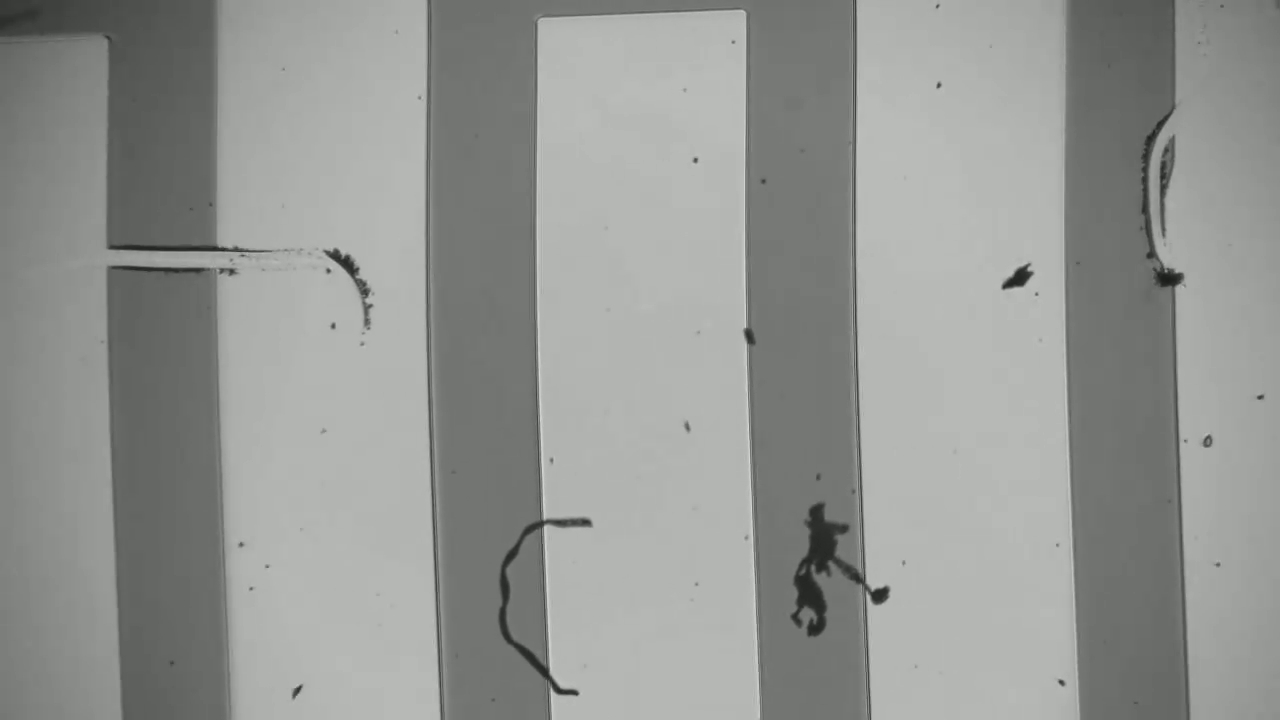Short_circuit: (82, 217, 248, 289)
